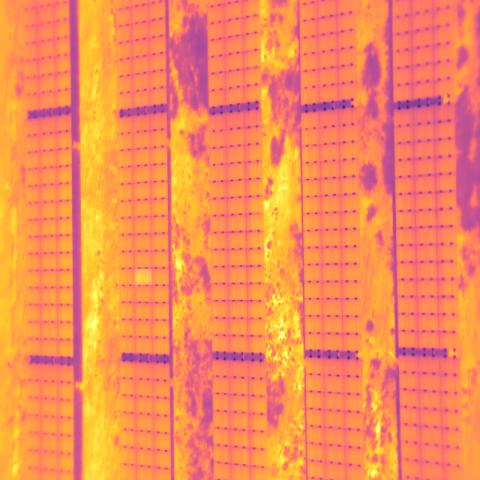fault: (134, 269, 152, 285)
